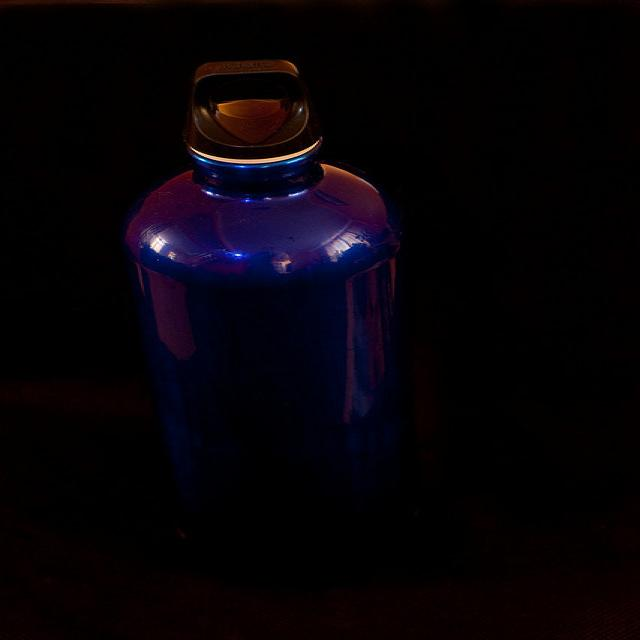Bottle: (147, 33, 444, 540)
